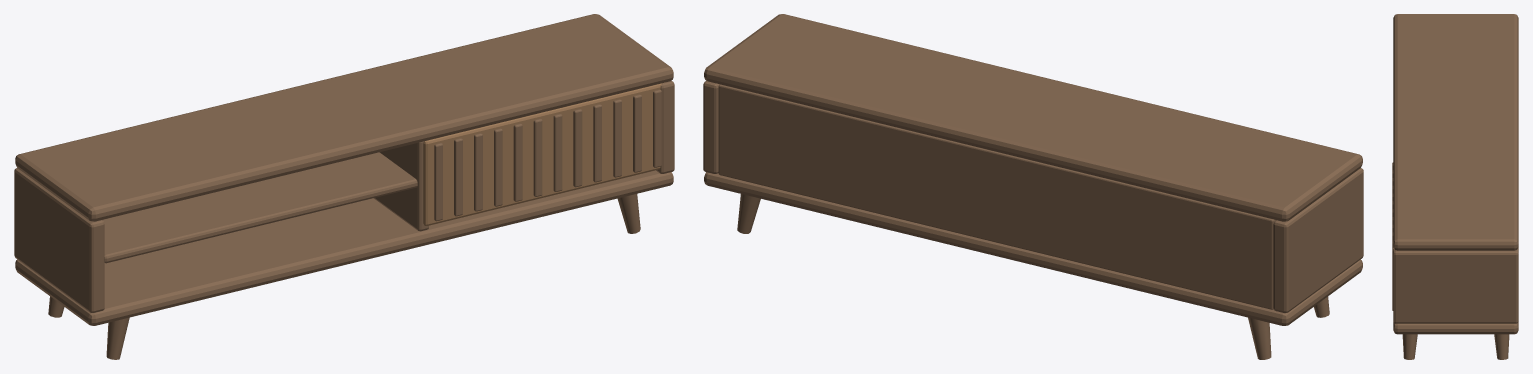
The model's file is storage-media.glb.
The picture shows the model from 3 angles, left to right: view 1: azimuth 30°, elevation 25°; view 2: azimuth 150°, elevation 25°; view 3: azimuth 270°, elevation 25°; orthographic projection. The views are drawn at different scales.
Parts seen in each view (by area): view 1: storage-media; view 2: storage-media; view 3: storage-media.
Part boxes in pixels (box(x1,y1,x2,y2)): storage-media: box(14, 14, 674, 359); storage-media: box(703, 14, 1363, 359); storage-media: box(1392, 14, 1518, 359).
Bounding box in the file's own units: 1.8 × 0.48 × 0.42.
